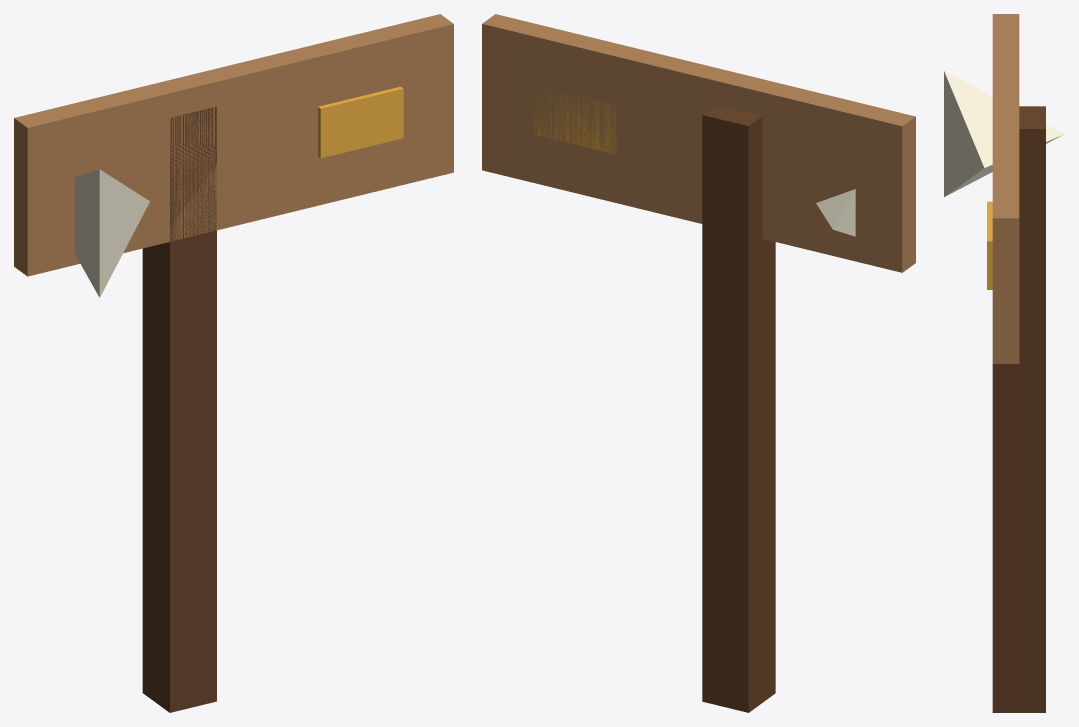
The model's file is signpost.glb.
The picture shows the model from 3 angles, left to right: view 1: azimuth 30°, elevation 25°; view 2: azimuth 150°, elevation 25°; view 3: azimuth 270°, elevation 25°; orthographic projection.
Visible parts, largest first — view 1: sign; view 2: sign; view 3: sign.
Boxes of the visible parts, <box> form: sign: <box>14,14,453,712</box>; sign: <box>482,14,915,712</box>; sign: <box>944,14,1064,712</box>.
Size of the model in its own units: 1.8 by 2.5 by 0.4502.
